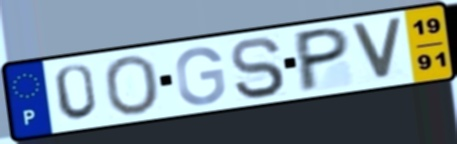0: (51, 62, 99, 123)
G: (173, 45, 228, 107)
O: (101, 53, 162, 118)
P: (296, 24, 353, 95)
S: (228, 35, 288, 101)
V: (347, 16, 406, 82)
